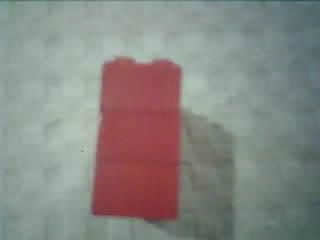lego: (88, 56, 183, 220)
